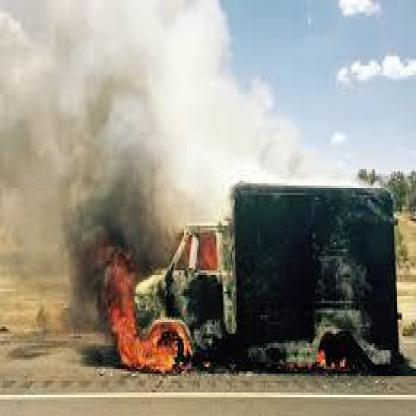fire: (105, 260, 190, 376), (299, 334, 345, 375), (182, 233, 224, 268)
smoke: (39, 132, 174, 262)
